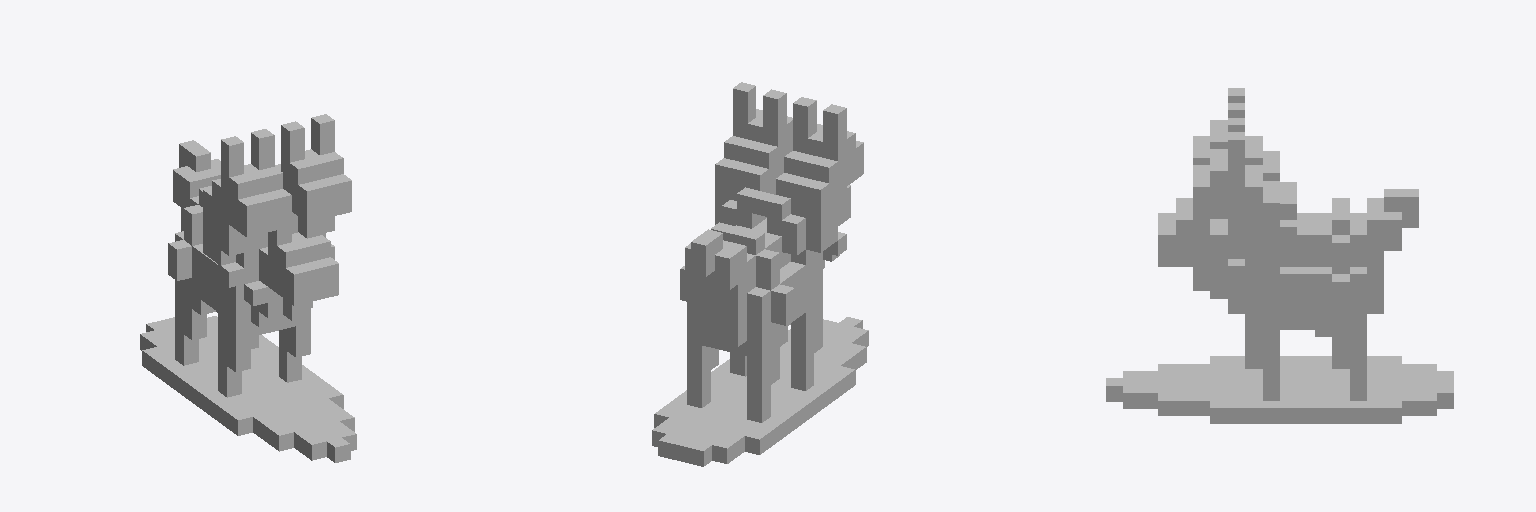
The model's file is Beach_llama3.obj.
The picture shows the model from 3 angles: view 1: azimuth 30°, elevation 25°; view 2: azimuth 150°, elevation 25°; view 3: azimuth 270°, elevation 25°; orthographic projection.
Size of the model in its own units: 7 by 18 by 20.